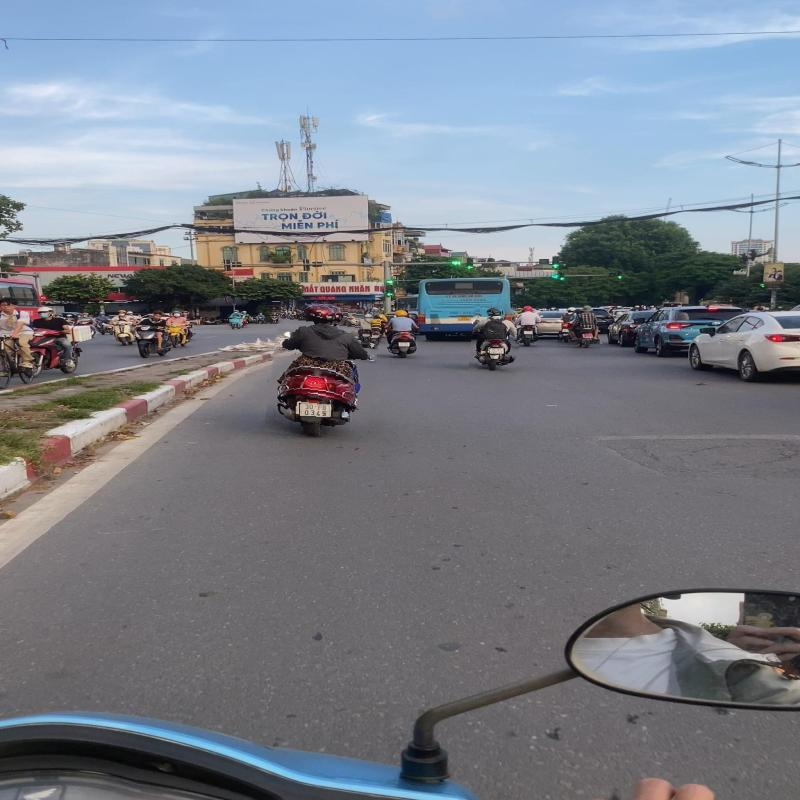helmet: (304, 304, 336, 323), (486, 307, 502, 316)
licenseplate: (300, 404, 334, 419), (489, 348, 505, 354)
motorcyclist: (268, 300, 379, 441), (470, 306, 522, 373)
